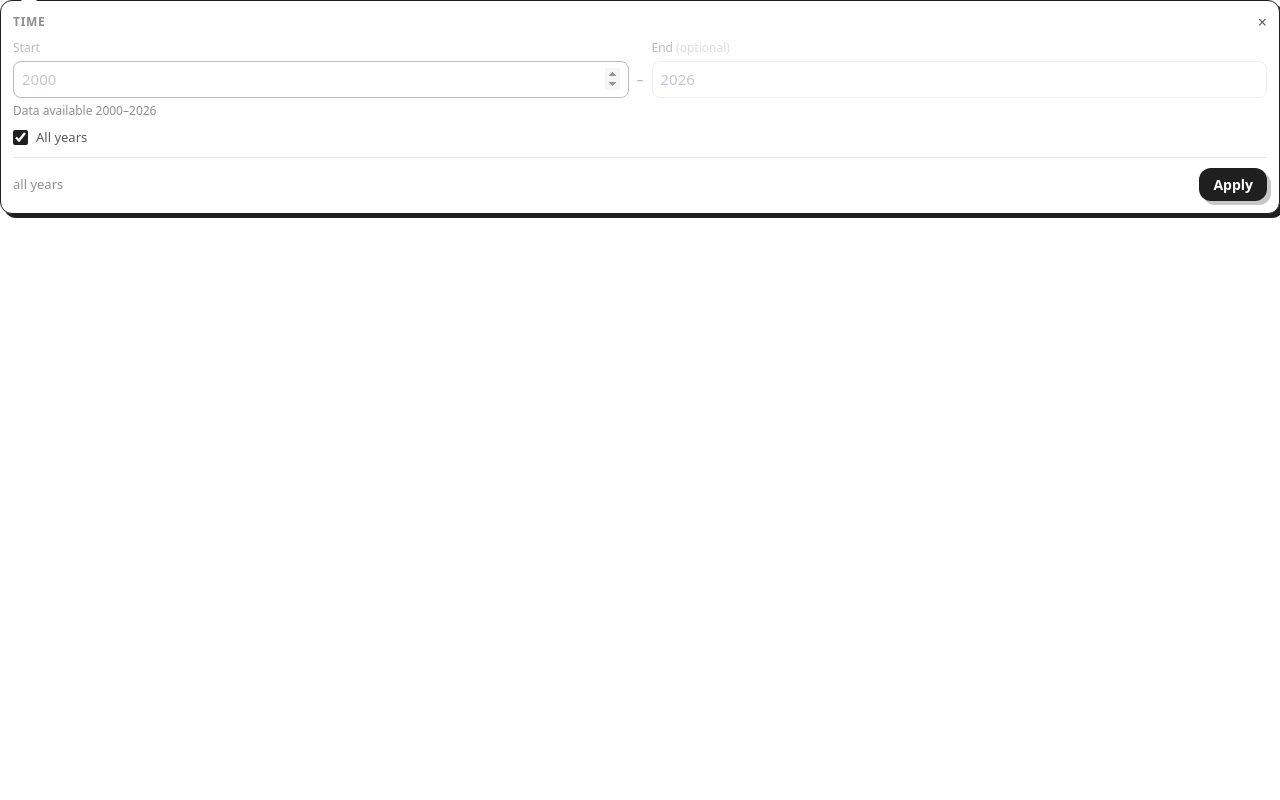
Test case: <TimeEditor> › previews "between" and "in" as the years change
The image size is (1280, 800).
In the number field named "Start year": (321,79) [13,61,628,98], type "2015"
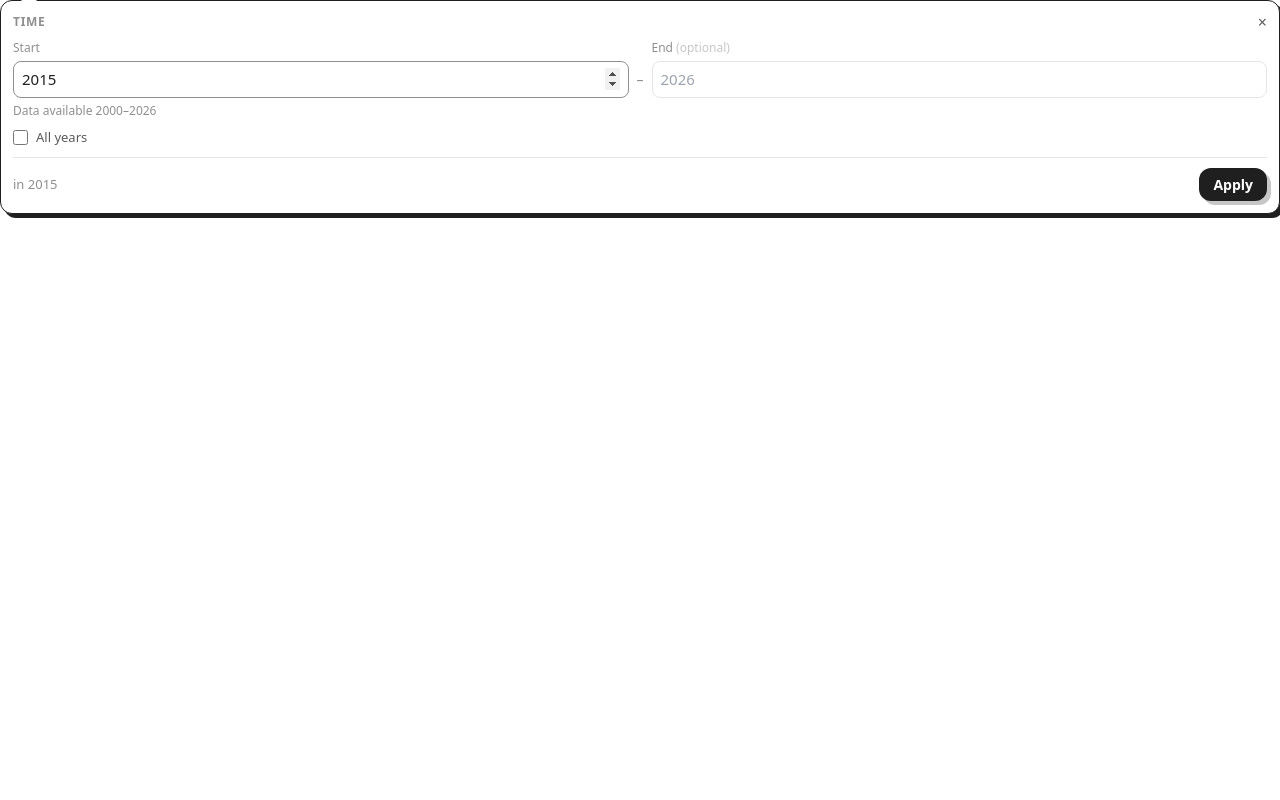
expect the text "in 2015" is shown: met, box [13,175,58,194]
In the number field named "End year": (959,79) [652,61,1267,98], type "2020"
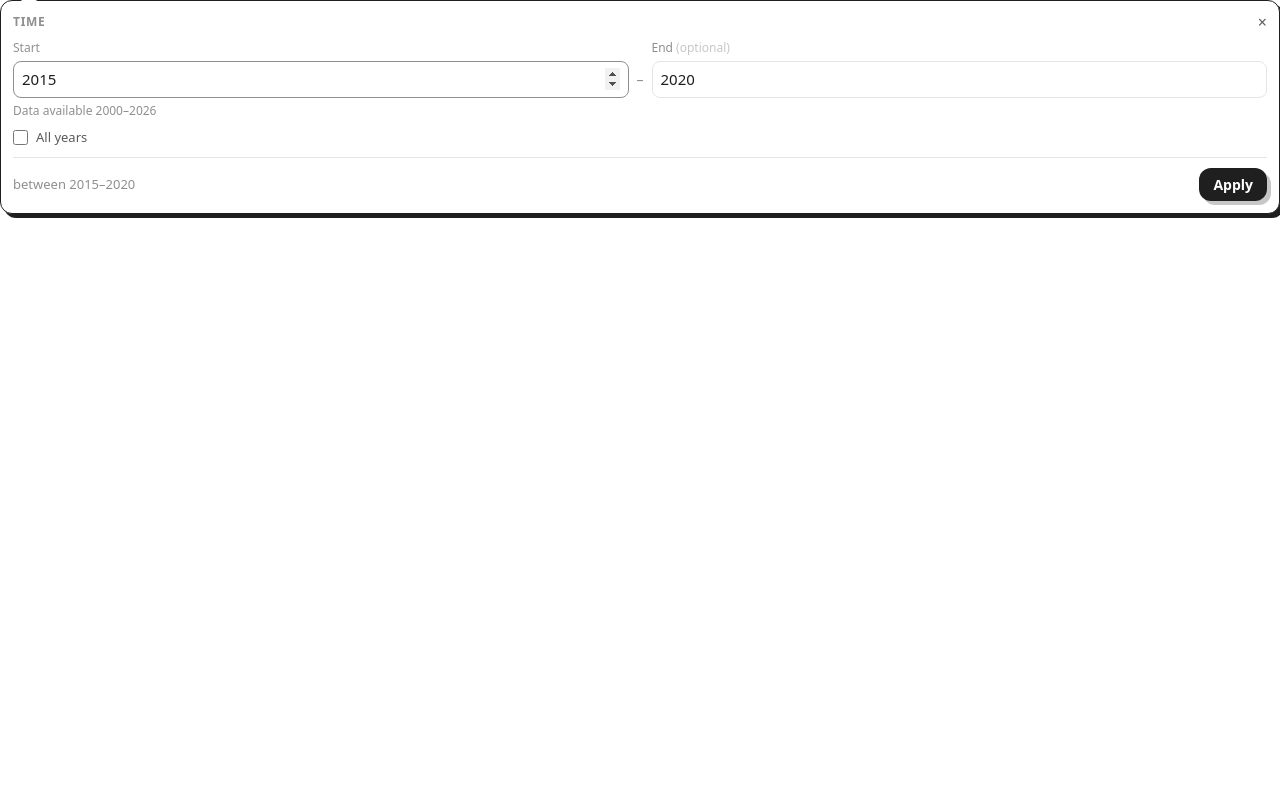
expect the text "between 2015–2020" is shown: met, box [13,175,135,194]
